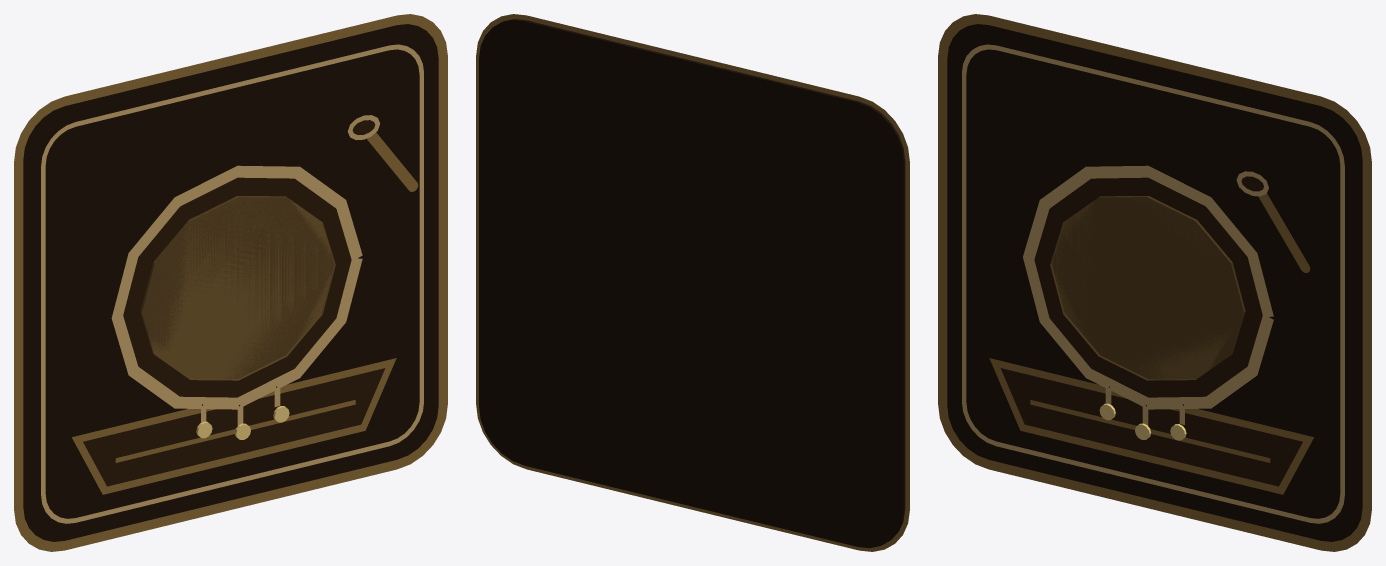
The model's file is obj-buben-kama.glb.
3 views of the same model, side by side, from view 1: azimuth 30°, elevation 25°; view 2: azimuth 150°, elevation 25°; view 3: azimuth 330°, elevation 25° (orthographic).
Visible parts, largest first — view 1: obj-buben-kama; view 2: obj-buben-kama; view 3: obj-buben-kama.
Boxes of the visible parts, x1=… form: obj-buben-kama: x1=14, y1=14, x2=447, y2=551; obj-buben-kama: x1=476, y1=14, x2=909, y2=551; obj-buben-kama: x1=938, y1=14, x2=1371, y2=551.
Bounding box in the file's own units: 0.3917 × 0.3917 × 0.0301.
